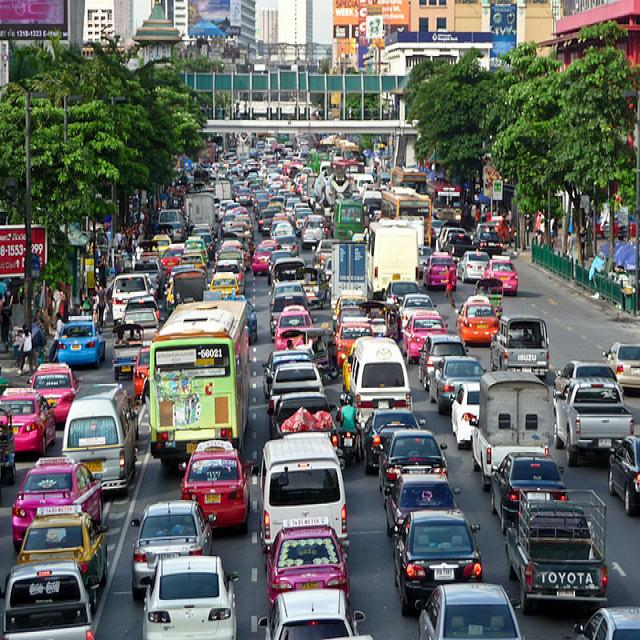motor: (341, 431, 357, 466)
